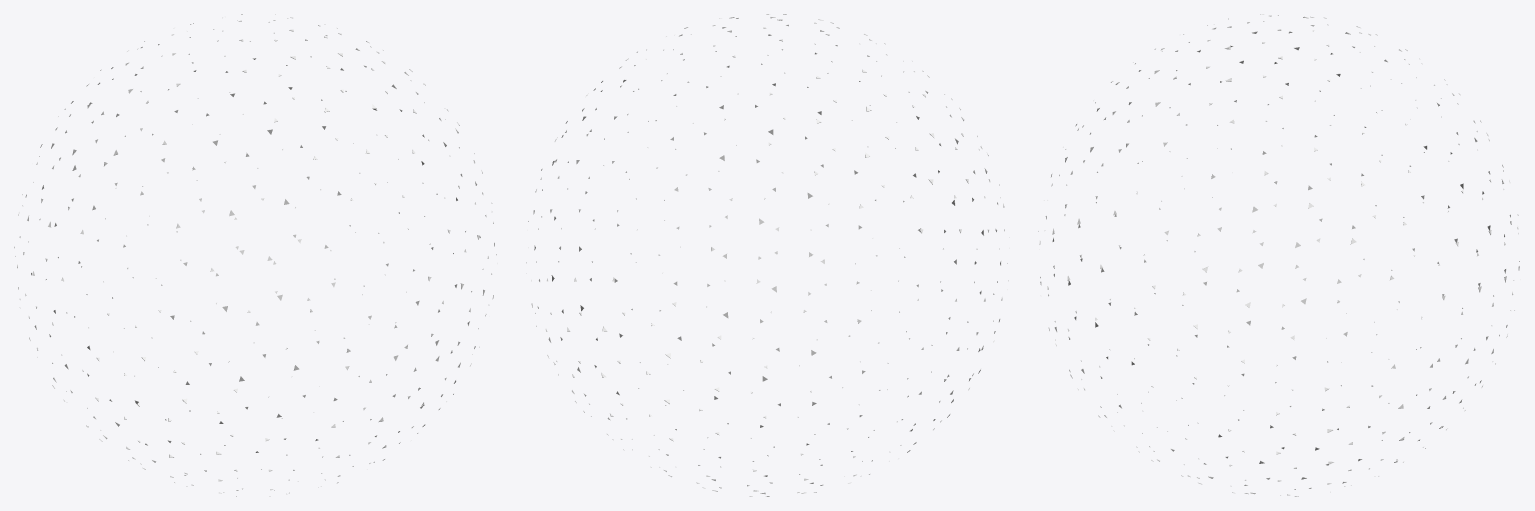
The model's file is starbrust.fbx.
3 views of the same model, side by side, from view 1: azimuth 30°, elevation 25°; view 2: azimuth 150°, elevation 25°; view 3: azimuth 270°, elevation 25° (orthographic).
Visible parts, largest first — view 1: Schnee_Schnee_0.002; view 2: Schnee_Schnee_0.002; view 3: Schnee_Schnee_0.002.
Boxes of the visible parts, bbox=[...] form: Schnee_Schnee_0.002: bbox=[14, 14, 497, 496]; Schnee_Schnee_0.002: bbox=[526, 14, 1009, 496]; Schnee_Schnee_0.002: bbox=[1038, 14, 1520, 496].
Size of the model in its own units: 27669 by 27662 by 27595.
Materials: 1 (1 with a texture image).
